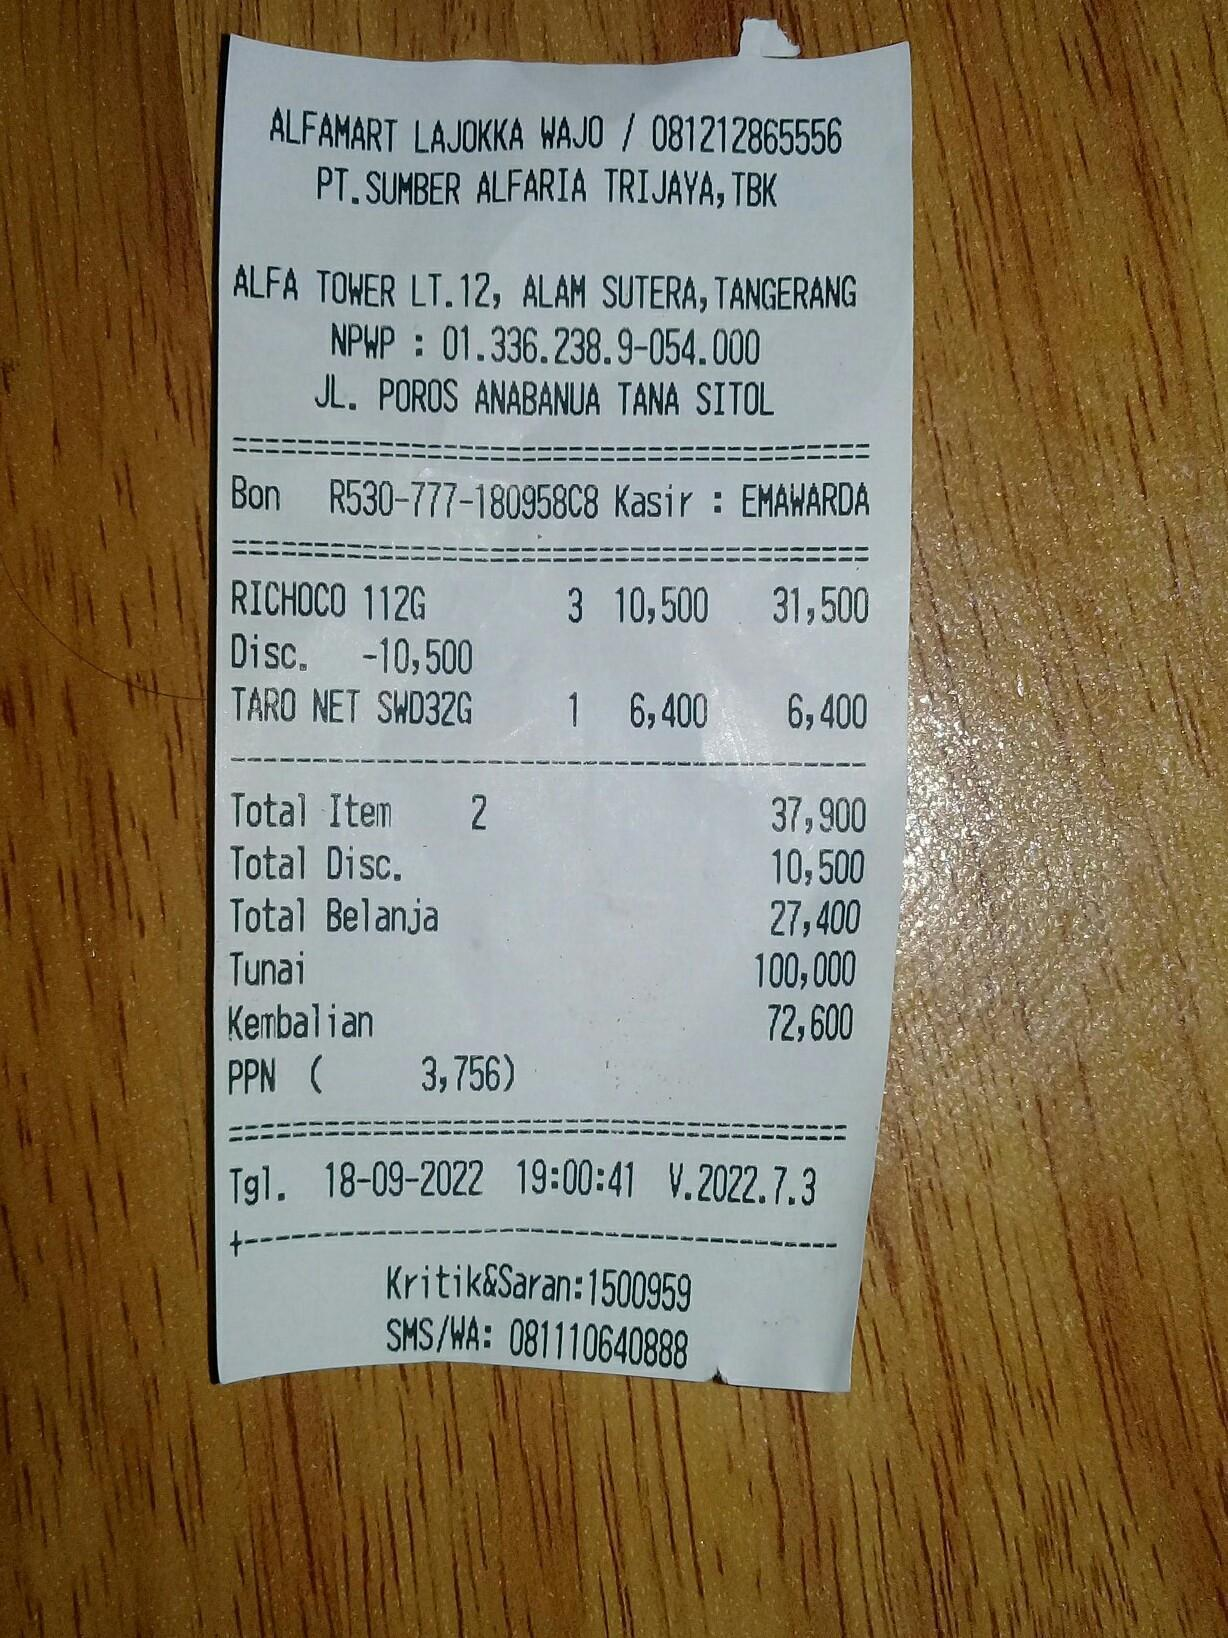total belanja: (221, 883, 869, 947)
